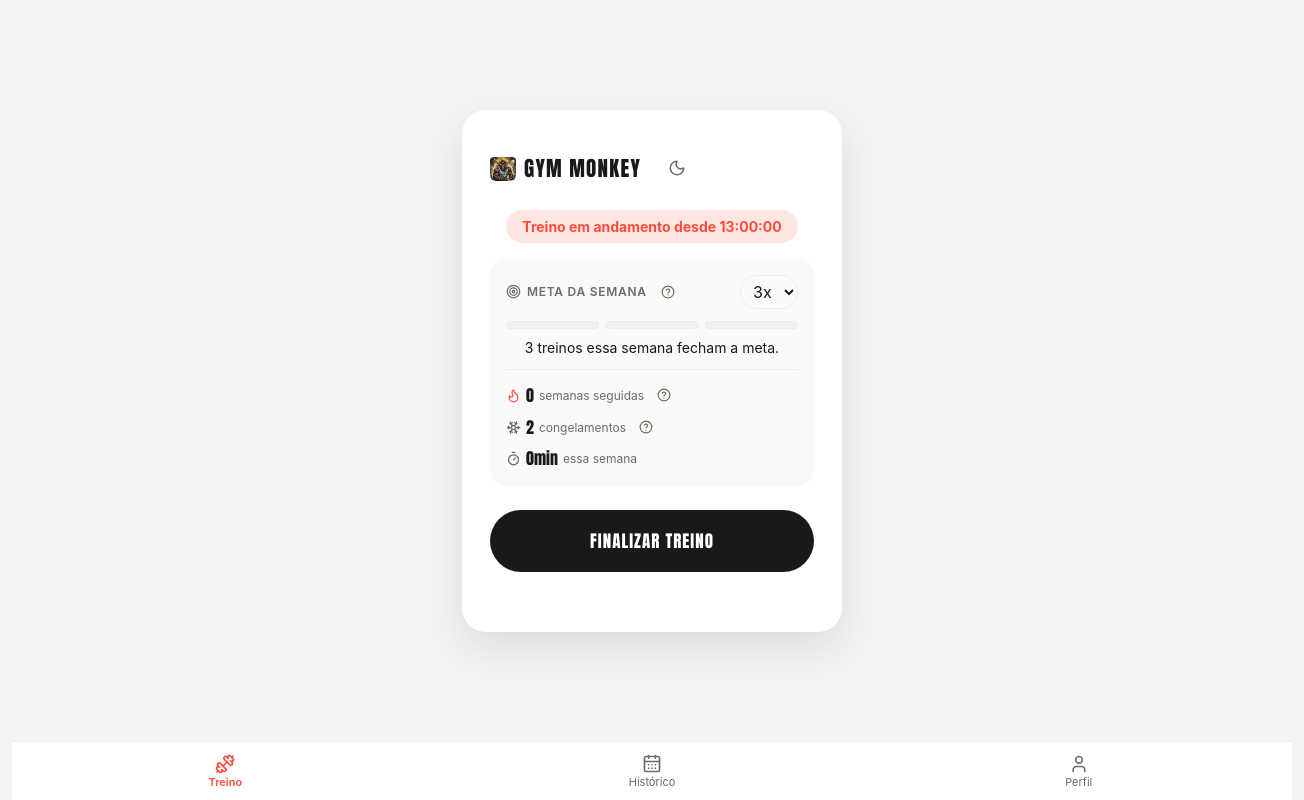
PontoScreen (sessoes) › registro do treino (Fase A) › abre o registro sozinho depois de finalizar o treino
Click the button "Finalizar treino": (652, 541) [490,510,814,572]
(page scrolled)
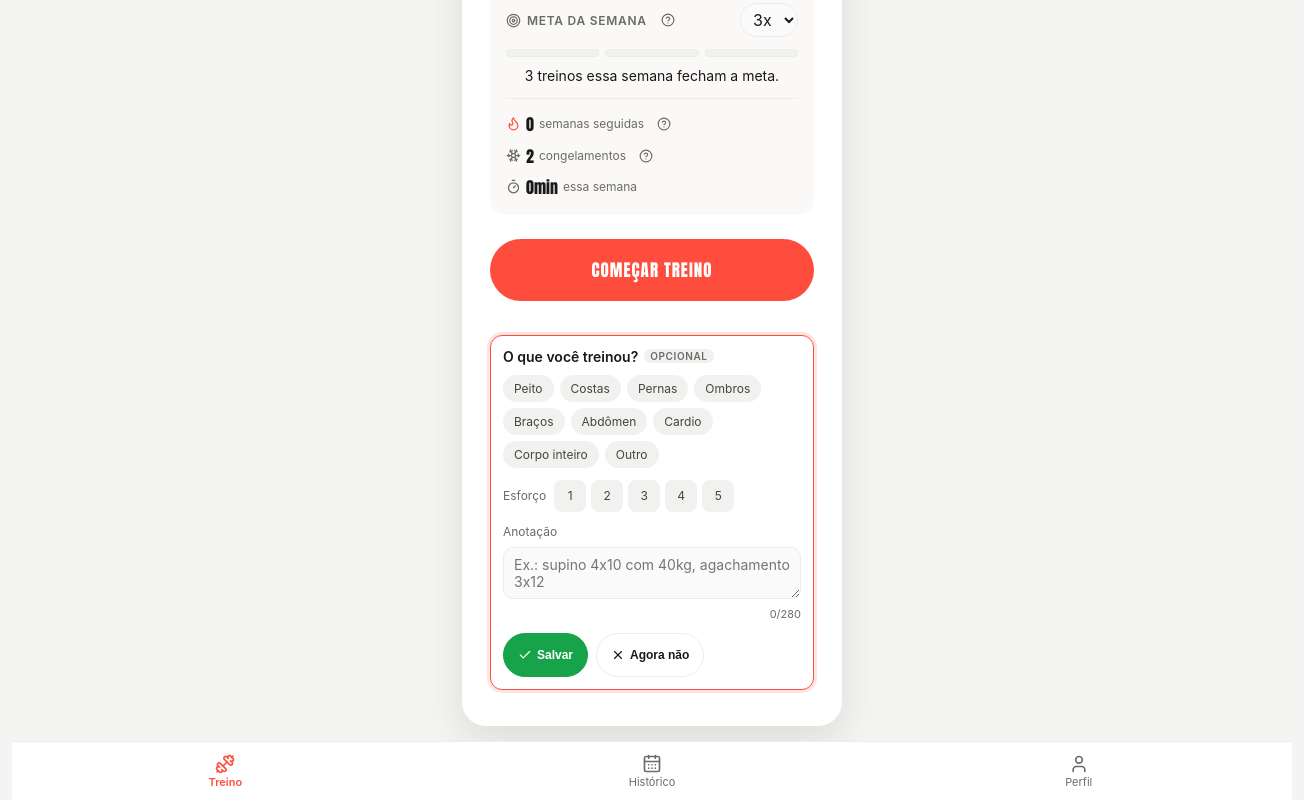
Expected: the form named "Registrar o treino" is shown, [490,335,814,690]
